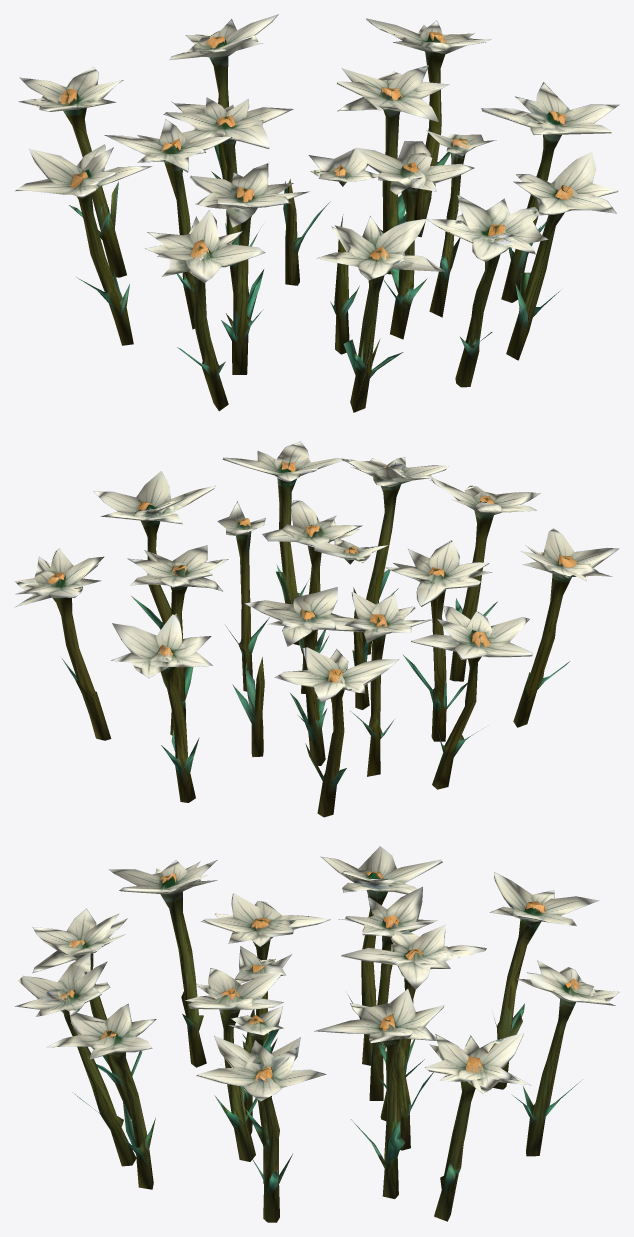
3 renders of one model, top to bottom at view 1: azimuth 30°, elevation 25°; view 2: azimuth 150°, elevation 25°; view 3: azimuth 270°, elevation 25°, orthographic. The views are drawn at different scales.
Parts seen in each view (by area): view 1: Mesh_0; view 2: Mesh_0; view 3: Mesh_0.
Part boxes in pixels (<box>): Mesh_0: <box>14,14,619,412</box>; Mesh_0: <box>14,441,619,817</box>; Mesh_0: <box>14,846,619,1222</box>.
Size of the model in its own units: 1.9 by 0.6866 by 1.91.
Materials: 1 (1 with a texture image).
